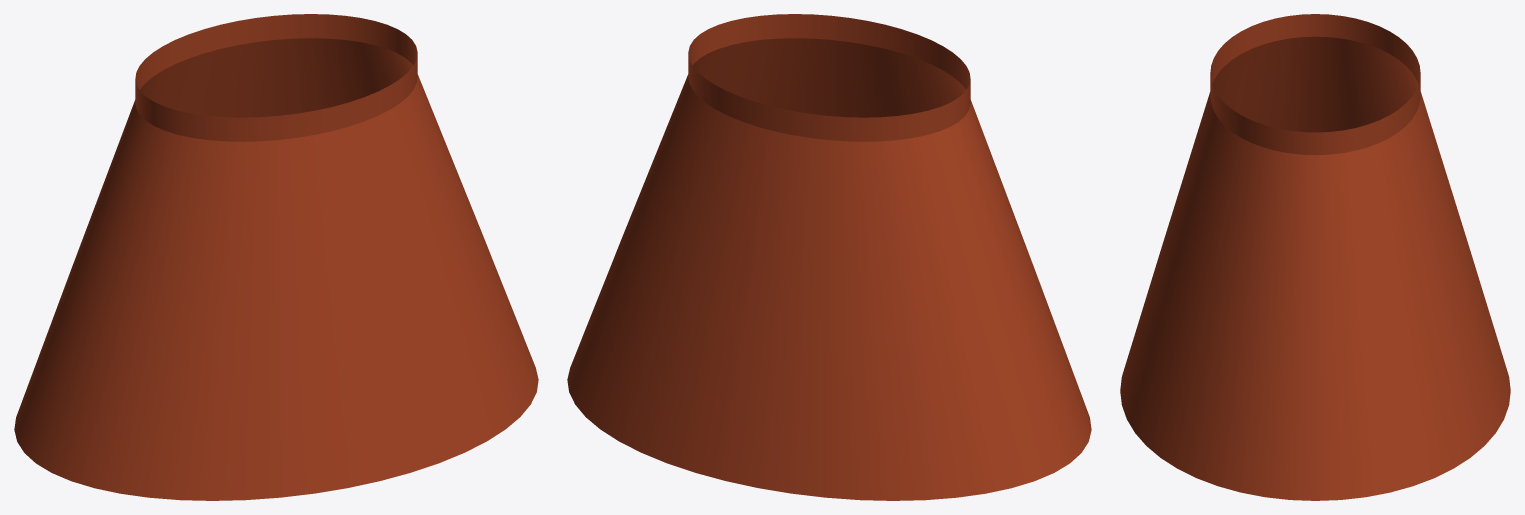
The model's file is export-skirt.glb.
3 renders of one model, left to right at view 1: azimuth 30°, elevation 25°; view 2: azimuth 150°, elevation 25°; view 3: azimuth 270°, elevation 25°, orthographic. The views are drawn at different scales.
Visible parts, largest first — view 1: Skirt, Waistband; view 2: Skirt, Waistband; view 3: Skirt, Waistband.
Part boxes in pixels (x1,y1,x2,y2): Skirt: (14,38,538,500); Waistband: (135,14,417,141); Skirt: (567,38,1091,500); Waistband: (688,14,970,141); Skirt: (1120,36,1510,500); Waistband: (1210,14,1420,155).
Size of the model in its own units: 1.04 by 0.7 by 0.78.
